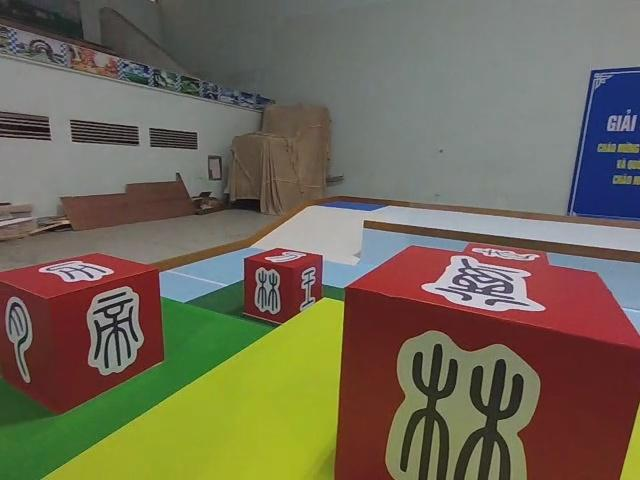R2 Fake: (335, 240, 640, 480), (0, 249, 162, 414), (246, 246, 323, 324)
